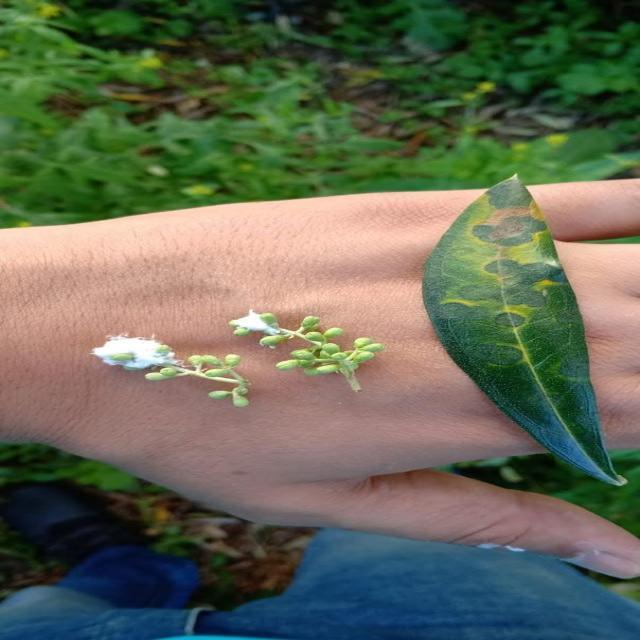OlivePeacockSpot: (424, 176, 625, 486)
Psyllid: (230, 310, 384, 391), (91, 334, 249, 407)
